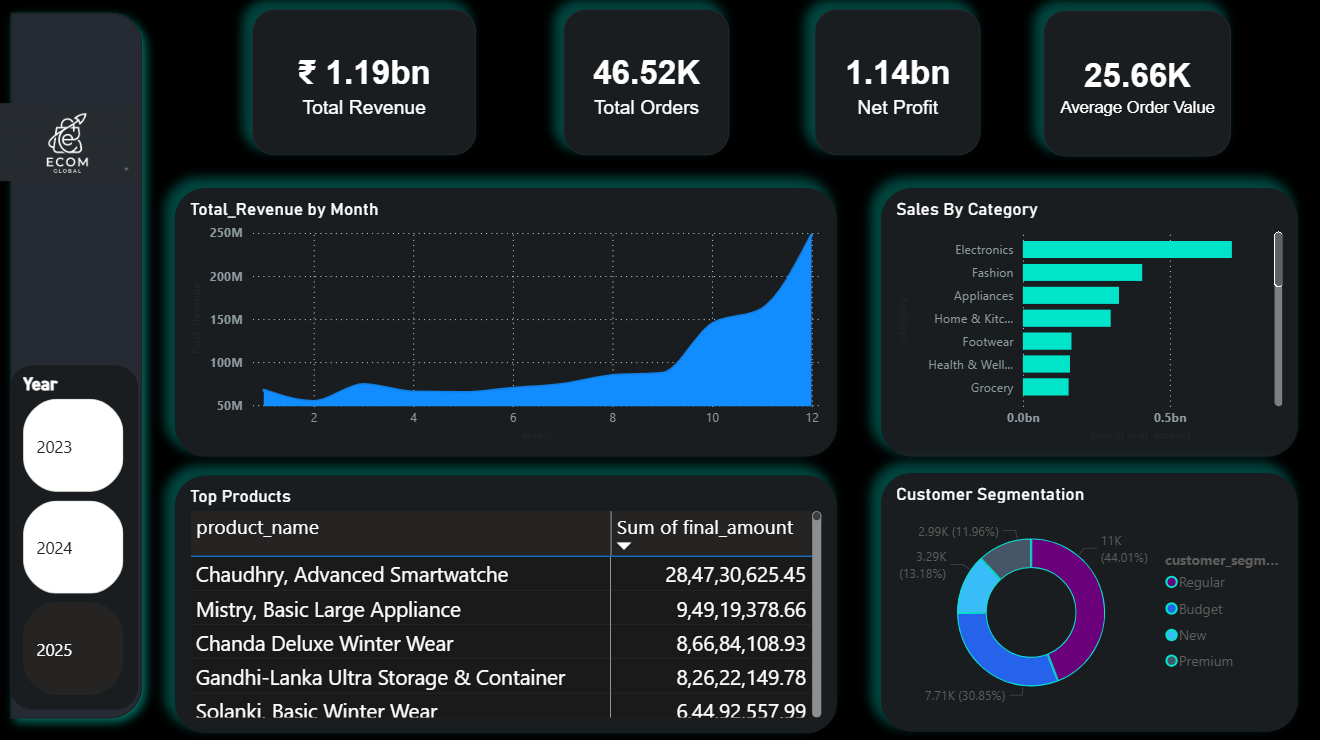

Layout of this report page (visuals, bound fields, positions):
{"tool":"powerbi","page":{"name":"Overview","canvas":[1280,720],"ordinal":0},"visuals":[{"type":"shape","box":[0,0,155.5,709.6],"z":0},{"type":"card","fields":{"Values":["_Measures.Total_Order_Value"]},"box":[548.1,10.6,160,140.4],"z":1000},{"type":"card","fields":{"Values":["_Measures.Average_Order_Value"]},"box":[1011.6,12.1,181.2,140.4],"z":2000},{"type":"card","fields":{"Values":["_Measures.Total_Revenue"]},"box":[247.6,10.6,215.9,140.4],"z":3000},{"type":"card","fields":{"Values":["_Measures.Net_Profit"]},"box":[789.6,10.6,160,140.4],"z":4000},{"type":"barChart","title":"Sales By Category","fields":{"Category":["products.category"],"Y":["Sum(orders.final_amount)"]},"box":[854,182.9,402.6,259.2],"z":5000},{"type":"lineChart","fields":{"Y":["_Measures.Total_Revenue"],"Category":["DimDate.Month"]},"box":[172.4,182.9,639.5,259.2],"z":6000},{"type":"donutChart","title":"Customer Segmentation","fields":{"Category":["customers.customer_segment"],"Y":["CountNonNull(customers.customer_id)"]},"box":[854.6,458.5,402.3,249.5],"z":7000},{"type":"tableEx","title":"Top Products","fields":{"Values":["products.product_name","Sum(orders.final_amount)"]},"box":[172.4,460.5,639.5,248.7],"z":8000},{"type":"advancedSlicerVisual","fields":{"Values":["DimDate.Year"]},"box":[13.6,354.8,123.8,332.2],"z":9000},{"type":"image","box":[0,49.8,137.4,179.7],"z":9001}]}

Visuals, with their boxes in screenshot pixels (x1, y1, x2, y2), scaled from the page's 1280x720 canvas onto the 1320x740 screenshot:
shape: x1=0 y1=0 x2=160 y2=729
card - _Measures.Total_Order_Value: x1=565 y1=11 x2=730 y2=155
card - _Measures.Average_Order_Value: x1=1043 y1=12 x2=1230 y2=157
card - _Measures.Total_Revenue: x1=255 y1=11 x2=478 y2=155
card - _Measures.Net_Profit: x1=814 y1=11 x2=979 y2=155
"Sales By Category" barChart: x1=881 y1=188 x2=1296 y2=454
lineChart - _Measures.Total_Revenue x DimDate.Month: x1=178 y1=188 x2=837 y2=454
"Customer Segmentation" donutChart: x1=881 y1=471 x2=1296 y2=728
"Top Products" tableEx: x1=178 y1=473 x2=837 y2=729
advancedSlicerVisual - DimDate.Year: x1=14 y1=365 x2=142 y2=706
image: x1=0 y1=51 x2=142 y2=236
